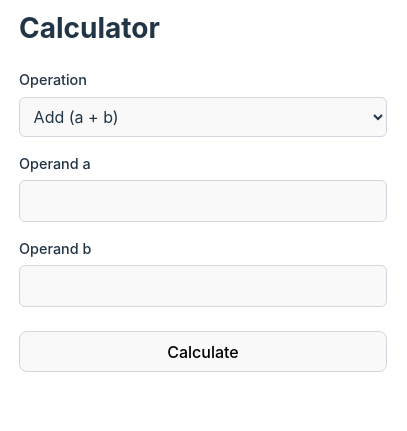
Test case: Calculator › client-side validation › does not require b for sqrt
The width and height of the screenshot is (407, 431).
Select "Square root (√a)" in the dropdown labelled "Operation" at point(203, 117), box [19,97,387,137]
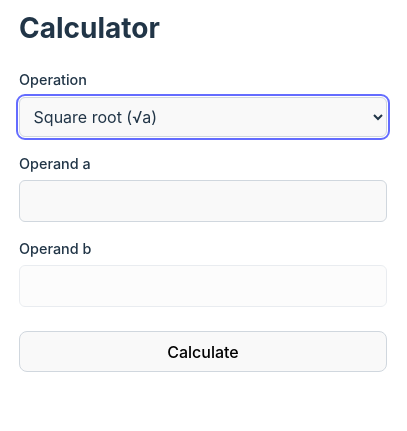
Type "9" into the field labelled "Operand a" at point(203, 201), box [19,180,387,222]
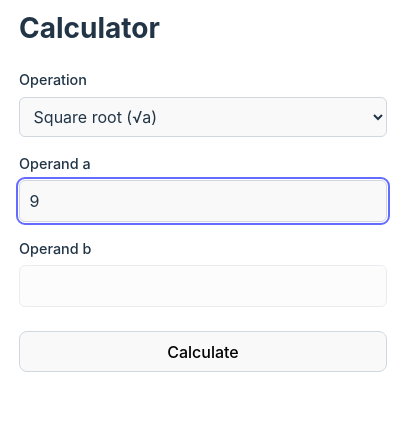
Click the button at point(203, 352), box [19,331,387,372]
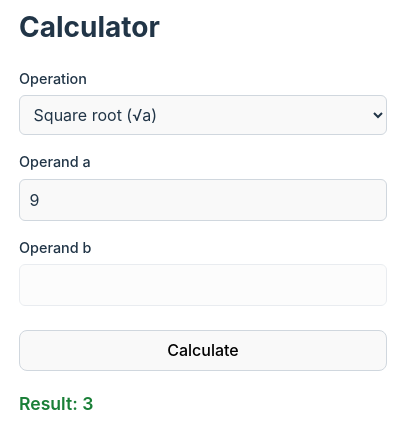
expect the text "Result: 3" is shown: met, box [19,393,93,414]
